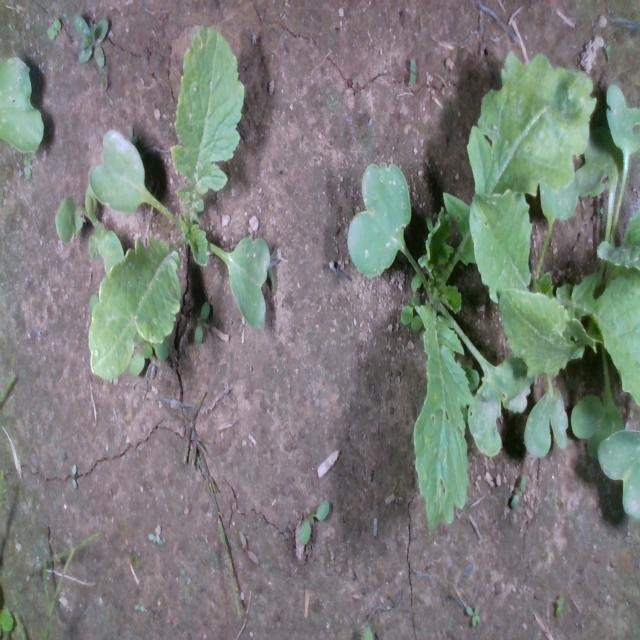weed: (298, 495, 330, 548), (238, 528, 260, 565), (193, 300, 209, 346), (510, 472, 526, 509), (464, 602, 480, 626), (552, 590, 564, 620), (47, 16, 61, 40), (22, 154, 32, 180), (147, 532, 163, 546), (409, 57, 416, 87)
